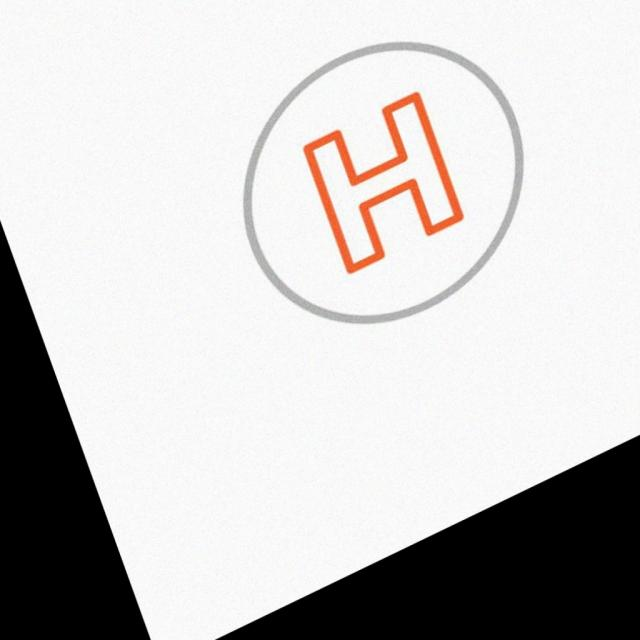helipad: (234, 35, 529, 328)
